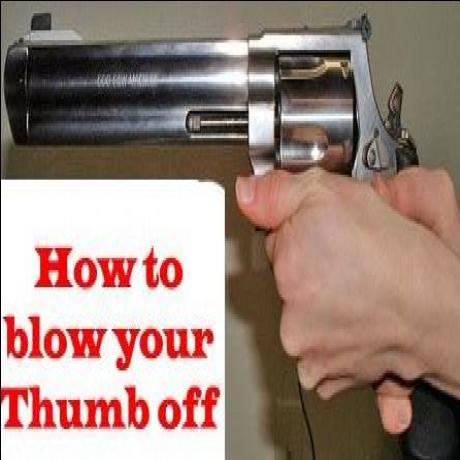weapon: (0, 6, 417, 193)
